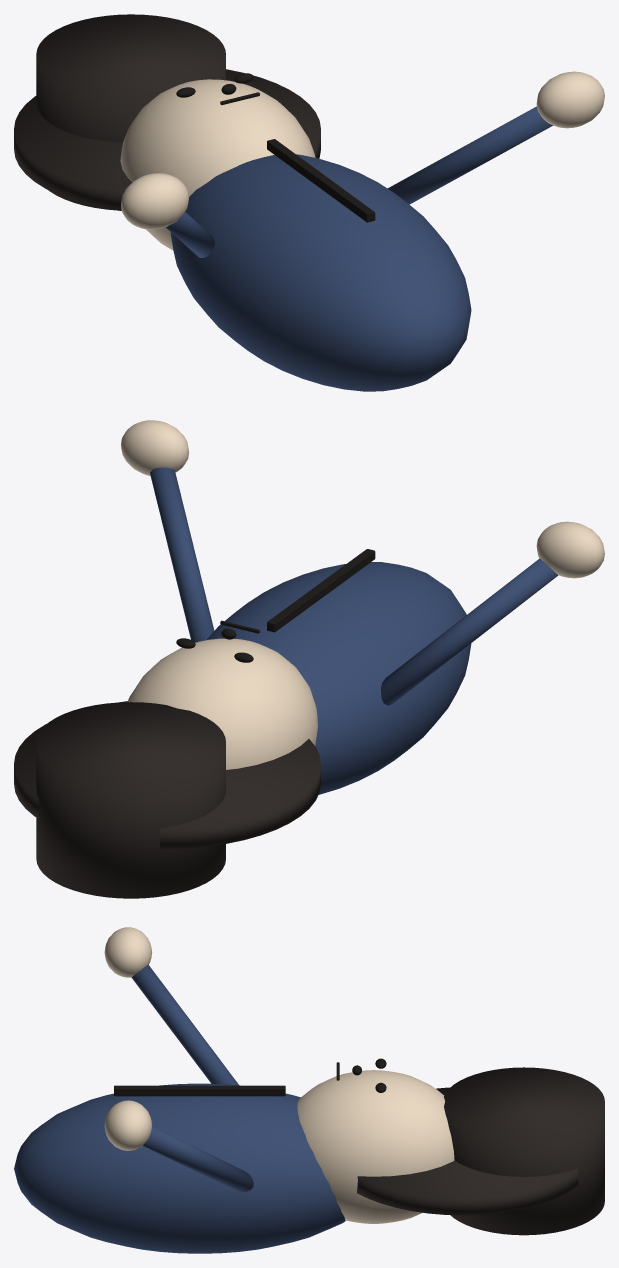
File: avatar-hat.glb
3 renders of one model, top to bottom at view 1: azimuth 30°, elevation 25°; view 2: azimuth 150°, elevation 25°; view 3: azimuth 270°, elevation 25°, orthographic. The views are drawn at different scales.
Parts seen in each view (by area): view 1: hat_body, hat_crown, hat_head, hat_brim, hat_right_arm, hat_right_hand, hat_left_hand, hat_coat_split, hat_left_arm; view 2: hat_crown, hat_body, hat_head, hat_brim, hat_left_arm, hat_right_arm, hat_left_hand, hat_right_hand, hat_coat_split; view 3: hat_body, hat_crown, hat_head, hat_brim, hat_left_arm, hat_right_arm, hat_coat_split, hat_right_hand, hat_left_hand.
Part boxes in pixels (box(x1,y1,x2,y2)): hat_body: box(170, 154, 471, 391); hat_crown: box(36, 14, 225, 210); hat_head: box(120, 79, 315, 250); hat_brim: box(14, 69, 320, 210); hat_right_arm: box(387, 106, 552, 204); hat_right_hand: box(536, 71, 604, 128); hat_left_hand: box(121, 173, 189, 229); hat_coat_split: box(267, 139, 375, 222); hat_left_arm: box(166, 212, 214, 257); hat_crown: box(36, 702, 225, 898); hat_body: box(207, 562, 471, 794); hat_head: box(127, 638, 317, 769); hat_brim: box(14, 701, 320, 848); hat_left_arm: box(381, 558, 558, 705); hat_right_arm: box(150, 467, 214, 642); hat_left_hand: box(536, 521, 604, 578); hat_right_hand: box(121, 420, 189, 475); hat_coat_split: box(267, 549, 375, 632); hat_body: box(14, 1083, 345, 1253); hat_crown: box(444, 1067, 604, 1235); hat_head: box(297, 1070, 454, 1223); hat_brim: box(357, 1087, 578, 1215); hat_left_arm: box(131, 964, 238, 1085); hat_right_arm: box(143, 1126, 253, 1191); hat_coat_split: box(114, 1085, 285, 1096); hat_right_hand: box(104, 1100, 152, 1150); hat_left_hand: box(104, 927, 152, 977).
Bounding box in the file's own units: 1.98 × 1.04 × 2.48.
